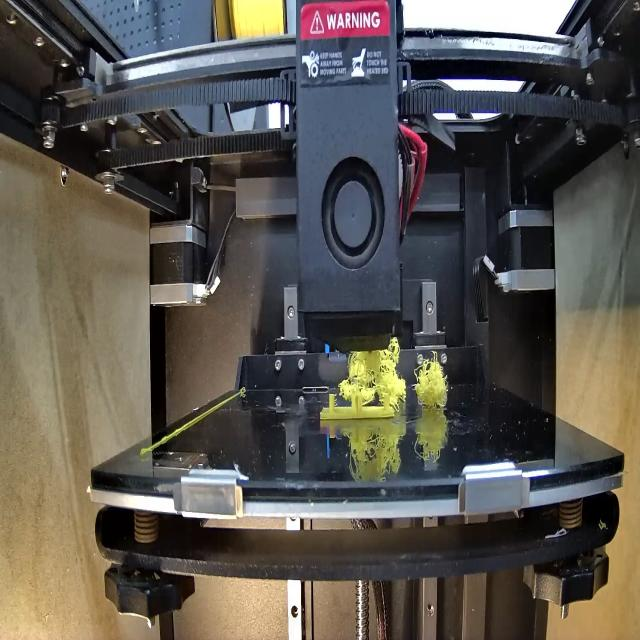spaghetti: (344, 341, 405, 401), (413, 354, 448, 406)
